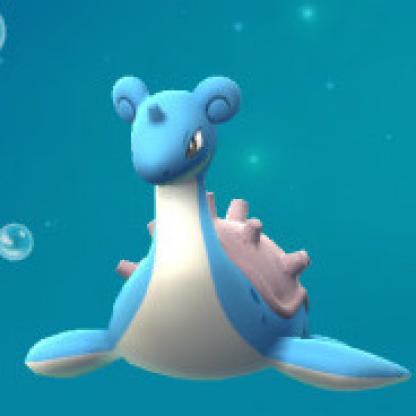Lapras: (3, 53, 415, 403)
